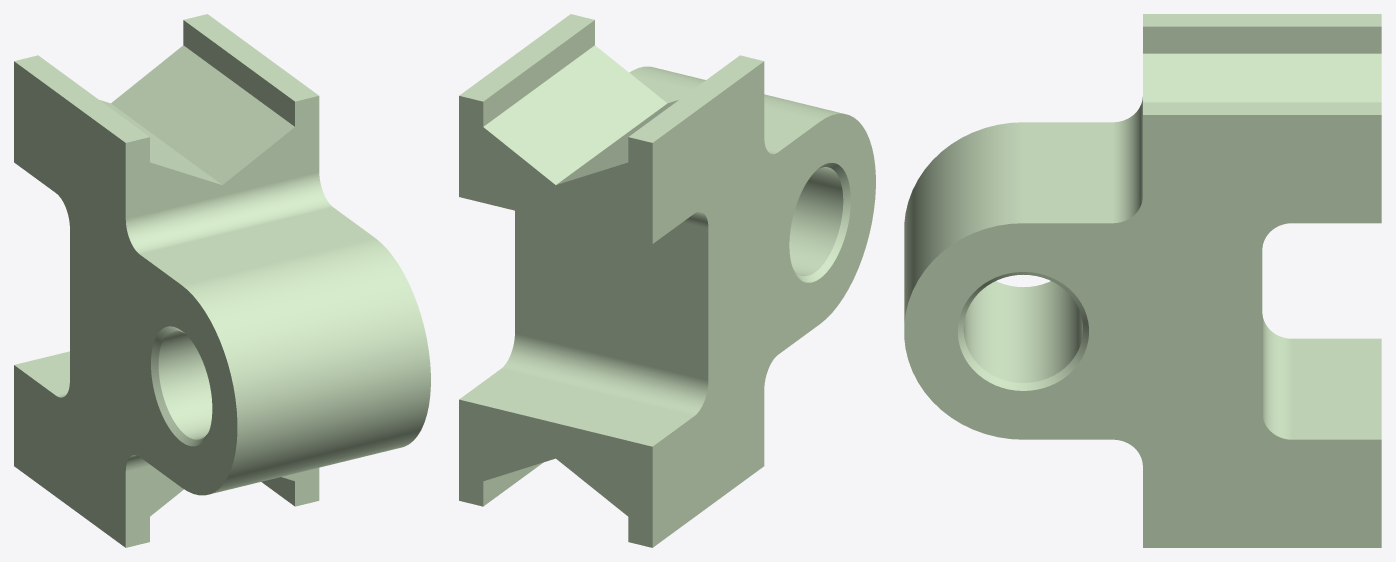
Rendered from Bloco 2.glb.
3 renders of one model, left to right at view 1: azimuth 30°, elevation 25°; view 2: azimuth 150°, elevation 25°; view 3: azimuth 270°, elevation 25°, orthographic. The views are drawn at different scales.
Parts seen in each view (by area): view 1: Part 1; view 2: Part 1; view 3: Part 1.
Part boxes in pixels (<box>): Part 1: <box>14,14,430,547</box>; Part 1: <box>459,14,875,547</box>; Part 1: <box>904,14,1381,547</box>.
Size of the model in its own units: 0.04 by 0.08 by 0.08.
